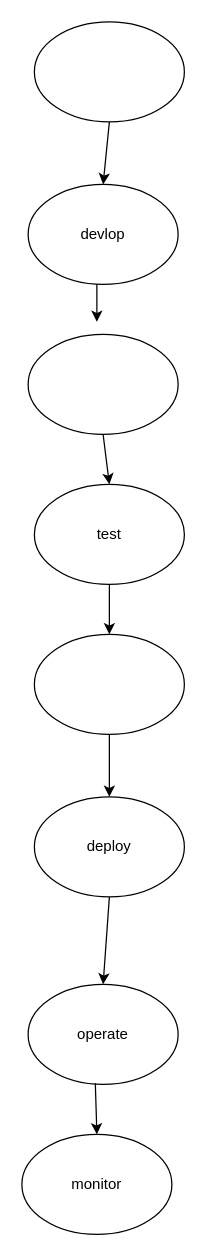
Some shapes in this 206 by 1256 pixel diagram are drawn without their labels. The centre of each missing label's shape, as x and y in pixels:
build: the point at 102,383
plan: the point at 108,71
release: the point at 108,683
